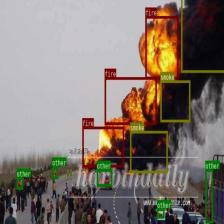fire: (104, 77, 156, 124), (145, 16, 178, 78), (82, 127, 124, 167)
smoke: (180, 0, 224, 72), (130, 130, 168, 173), (160, 80, 190, 122)
